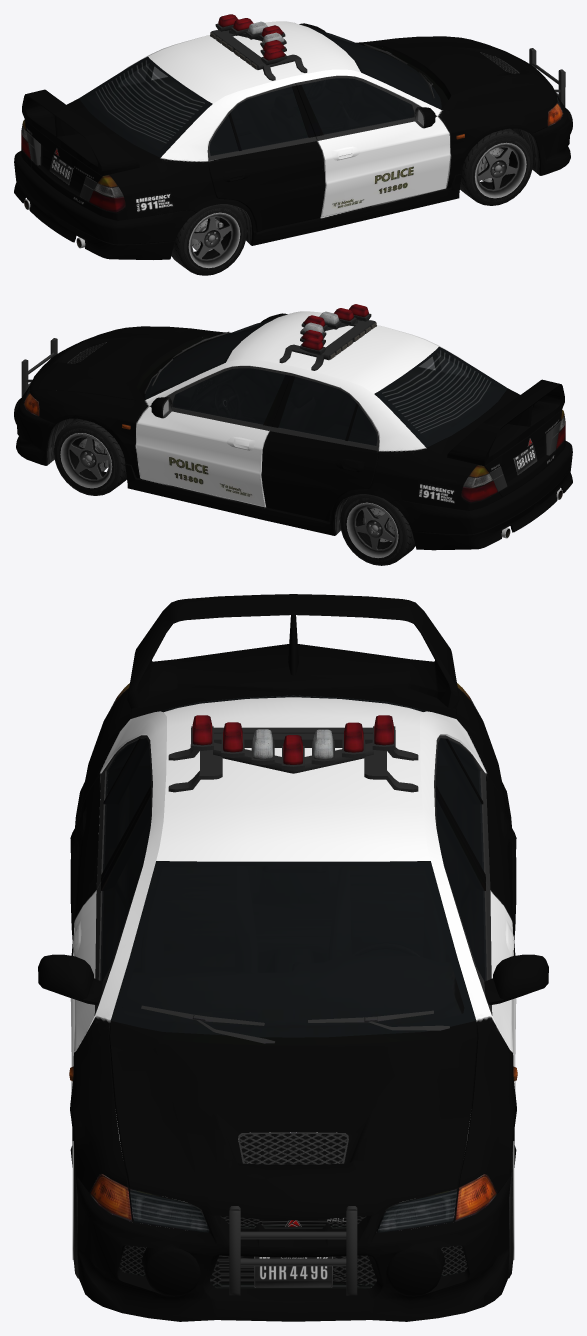
The model's file is thunderbolt.glb.
3 views of the same model, one above another, from view 1: azimuth 30°, elevation 25°; view 2: azimuth 150°, elevation 25°; view 3: azimuth 270°, elevation 25° (orthographic). The views are drawn at different scales.
Visible parts, largest first — view 1: Thunderbolt96_Body_thunderbolt96_body_0, Thunderbolt96_Taillights_Glass_UCB_Lights_and_Glass_Transper, Thunderbolt96_Interior_UCB_Interiors_2_0, Thunderbolt96_WheelStock_FL_RB1c_Tire_1k_0, Thunderbolt96_Suspension_UCB_BOTTOM_0, Thunderbolt96_Headlights_UCB_Lights_and_Glass_0, Thunderbolt96_Cop_Numberplates_Rear_Numberplates_Misk_U_0; view 2: Thunderbolt96_Body_thunderbolt96_body_0, Thunderbolt96_Taillights_Glass_UCB_Lights_and_Glass_Transper, Thunderbolt96_Interior_UCB_Interiors_2_0, Thunderbolt96_WheelStock_FL_RB1c_Tire_1k_0, Thunderbolt96_Suspension_UCB_BOTTOM_0, Thunderbolt96_Headlights_UCB_Lights_and_Glass_0, Thunderbolt96_Cop_Numberplates_Rear_Numberplates_Misk_U_0; view 3: Thunderbolt96_Body_thunderbolt96_body_0, Thunderbolt96_Taillights_Glass_UCB_Lights_and_Glass_Transper, Thunderbolt96_Interior_UCB_Interiors_2_0, Thunderbolt96_Suspension_UCB_BOTTOM_0, Thunderbolt96_Headlights_UCB_Lights_and_Glass_0, Thunderbolt96_Cop_Numberplates_Rear_Numberplates_Misk_U_0, Thunderbolt96_WheelStock_FL_RB1c_Tire_1k_0.
Boxes of the visible parts, x1=… form: Thunderbolt96_Body_thunderbolt96_body_0: x1=14, y1=21, x2=572, y2=259; Thunderbolt96_Taillights_Glass_UCB_Lights_and_Glass_Transper: x1=21, y1=28, x2=561, y2=212; Thunderbolt96_Interior_UCB_Interiors_2_0: x1=87, y1=32, x2=436, y2=154; Thunderbolt96_WheelStock_FL_RB1c_Tire_1k_0: x1=171, y1=128, x2=533, y2=275; Thunderbolt96_Suspension_UCB_BOTTOM_0: x1=24, y1=24, x2=565, y2=248; Thunderbolt96_Headlights_UCB_Lights_and_Glass_0: x1=22, y1=14, x2=563, y2=211; Thunderbolt96_Cop_Numberplates_Rear_Numberplates_Misk_U_0: x1=49, y1=154, x2=73, y2=184; Thunderbolt96_Body_thunderbolt96_body_0: x1=14, y1=311, x2=572, y2=550; Thunderbolt96_Taillights_Glass_UCB_Lights_and_Glass_Transper: x1=24, y1=317, x2=565, y2=502; Thunderbolt96_Interior_UCB_Interiors_2_0: x1=150, y1=321, x2=499, y2=444; Thunderbolt96_WheelStock_FL_RB1c_Tire_1k_0: x1=53, y1=418, x2=415, y2=565; Thunderbolt96_Suspension_UCB_BOTTOM_0: x1=21, y1=314, x2=562, y2=538; Thunderbolt96_Headlights_UCB_Lights_and_Glass_0: x1=23, y1=304, x2=564, y2=501; Thunderbolt96_Cop_Numberplates_Rear_Numberplates_Misk_U_0: x1=513, y1=445, x2=537, y2=474; Thunderbolt96_Body_thunderbolt96_body_0: x1=38, y1=594, x2=548, y2=1321; Thunderbolt96_Taillights_Glass_UCB_Lights_and_Glass_Transper: x1=100, y1=683, x2=486, y2=1232; Thunderbolt96_Interior_UCB_Interiors_2_0: x1=102, y1=739, x2=484, y2=1026; Thunderbolt96_Suspension_UCB_BOTTOM_0: x1=42, y1=697, x2=548, y2=1295; Thunderbolt96_Headlights_UCB_Lights_and_Glass_0: x1=69, y1=697, x2=517, y2=1233; Thunderbolt96_Cop_Numberplates_Rear_Numberplates_Misk_U_0: x1=254, y1=1256, x2=332, y2=1287; Thunderbolt96_WheelStock_FL_RB1c_Tire_1k_0: x1=72, y1=849, x2=514, y2=1278.
Bounding box in the file's own units: 4.41 × 1.52 × 1.95.
8 materials, 8 textured.
